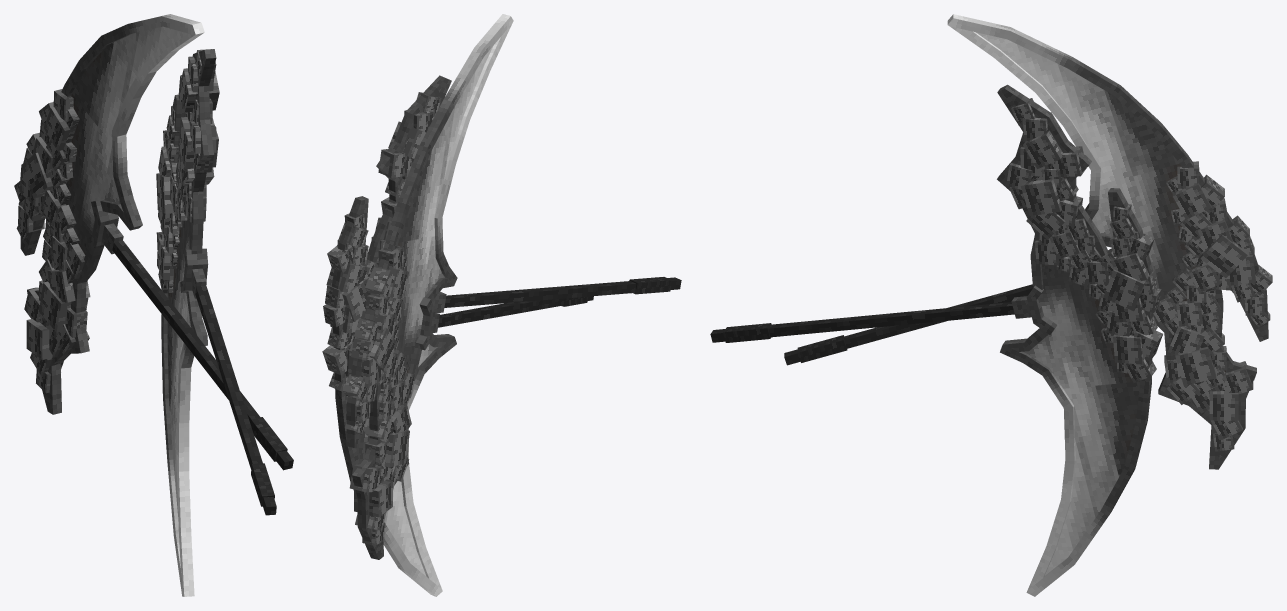
The model's file is forlorn_scythe.glb.
The picture shows the model from 3 angles, left to right: view 1: azimuth 30°, elevation 25°; view 2: azimuth 150°, elevation 25°; view 3: azimuth 270°, elevation 25°; orthographic projection. The views are drawn at different scales.
Visible parts, largest first — view 1: off__Tool_L, main__Tool_R; view 2: off__Tool_L, main__Tool_R; view 3: main__Tool_R, off__Tool_L.
Part boxes in pixels (x1,y1,x2,y2): off__Tool_L: (14,14,293,470); main__Tool_R: (156,49,276,596); off__Tool_L: (342,14,593,559); main__Tool_R: (322,75,681,596); main__Tool_R: (710,84,1162,596); off__Tool_L: (784,14,1272,469).
Bounding box in the file's own units: 0.8533 × 3.22 × 2.92.
Materials: 1 (1 with a texture image).
